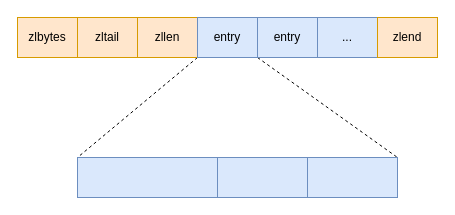
This 455x215 diagram has some shape labels left out. Each missing label, with the centre of its shape:
content: point (352, 177)
encoding: point (262, 177)
previous_entry _length: point (147, 177)
